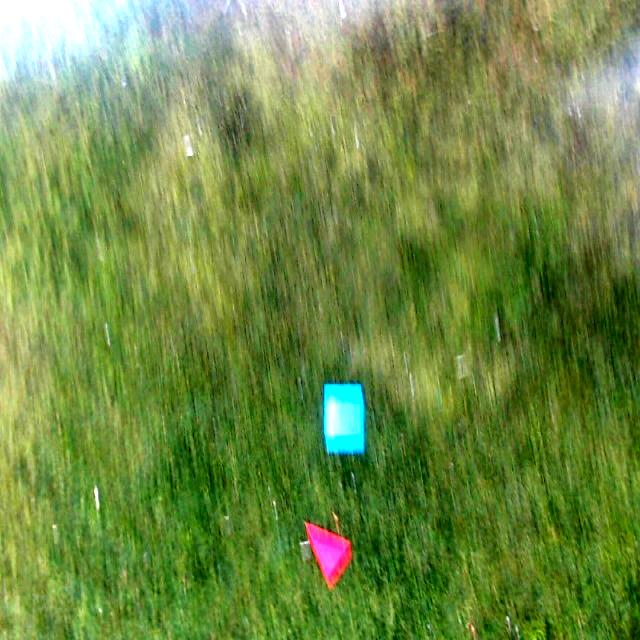red_triangle: (306, 522, 351, 584)
